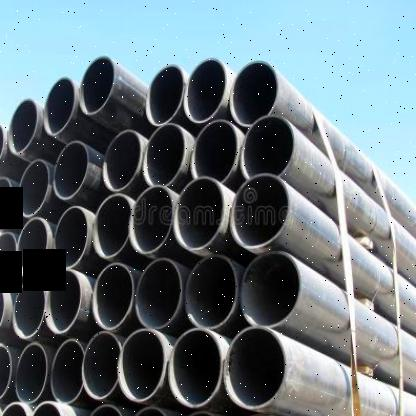pipe: (224, 326, 288, 410), (240, 251, 301, 327), (230, 173, 290, 249), (168, 328, 223, 407), (173, 177, 225, 250), (185, 255, 237, 328), (117, 328, 167, 401), (135, 257, 182, 329), (241, 116, 295, 178), (229, 61, 278, 126), (128, 185, 173, 255), (191, 119, 239, 180), (142, 123, 186, 188), (184, 58, 228, 122), (92, 264, 134, 330), (82, 331, 122, 400), (92, 193, 132, 258), (45, 268, 82, 335), (102, 130, 142, 191), (146, 64, 185, 126), (51, 338, 85, 404), (78, 56, 116, 115), (53, 140, 89, 200), (54, 206, 88, 269), (43, 76, 77, 136), (12, 278, 46, 338), (16, 342, 48, 404), (16, 217, 48, 277), (17, 158, 49, 216), (7, 98, 38, 155), (0, 229, 18, 283), (0, 342, 15, 402), (0, 176, 13, 228), (85, 402, 128, 416), (27, 401, 66, 416), (128, 404, 172, 416), (0, 400, 32, 416)
